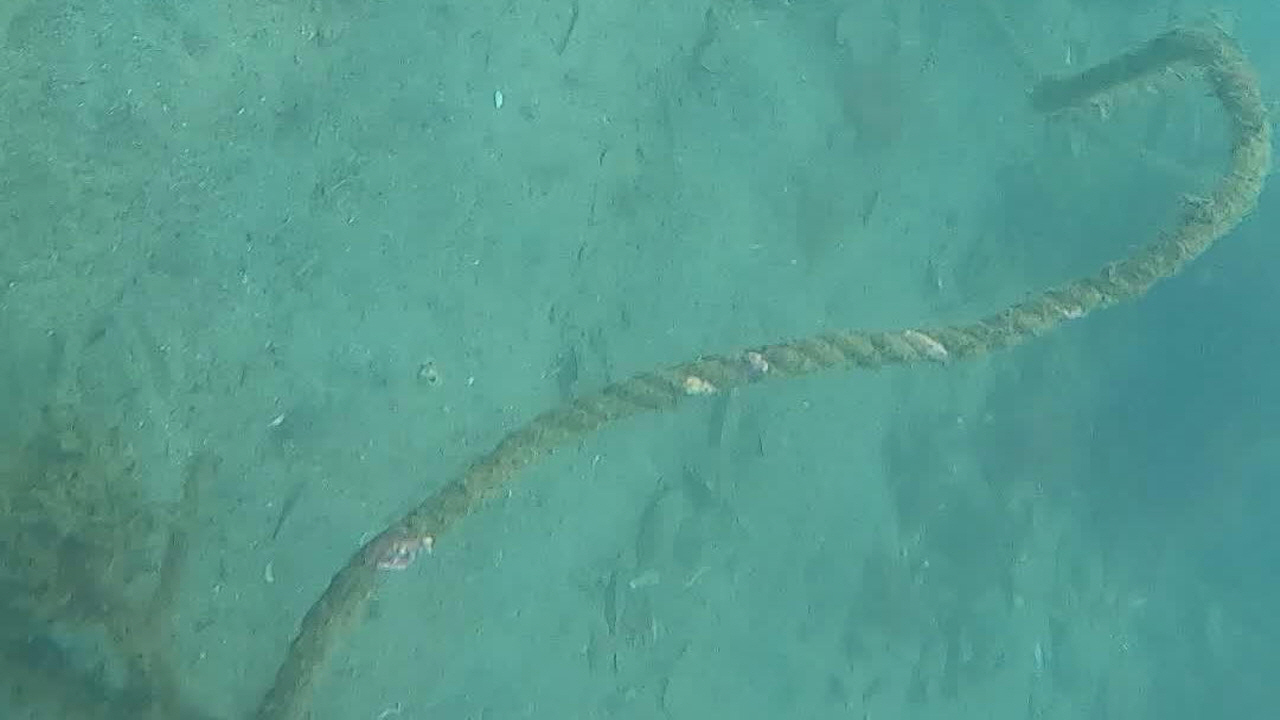rope: (253, 26, 1278, 720)
